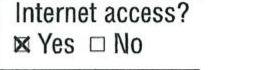NO: (87, 34, 107, 53)
YES: (11, 33, 33, 55)
